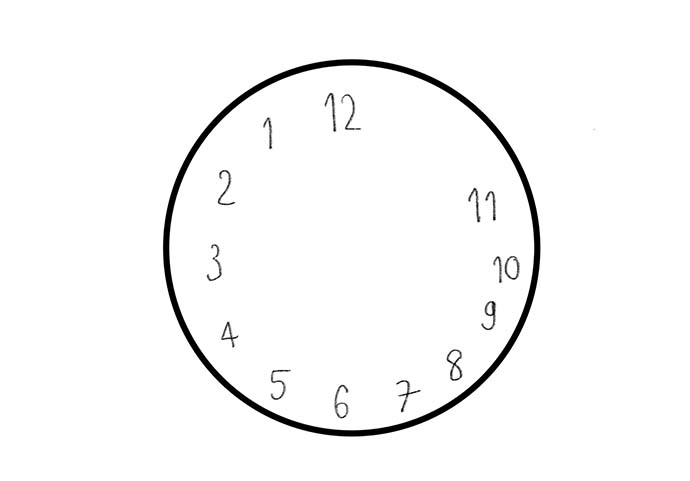eight: (437, 340, 470, 384)
eleven: (465, 180, 507, 227)
five: (268, 364, 292, 403)
four: (220, 310, 241, 355)
nine: (475, 295, 503, 333)
one: (260, 115, 280, 153)
seven: (387, 371, 422, 415)
six: (326, 377, 355, 422)
ten: (488, 250, 524, 286)
three: (195, 237, 235, 288)
twelve: (318, 86, 367, 140)
two: (211, 165, 239, 209)
